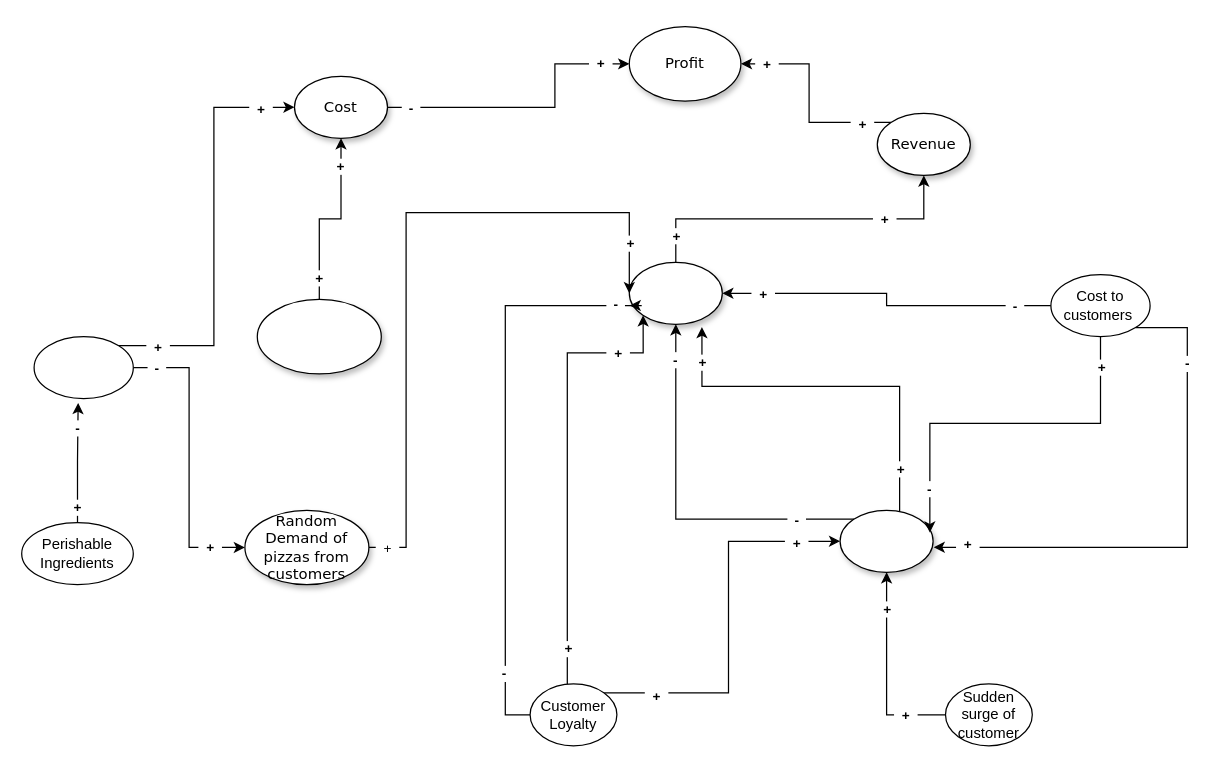
Some shapes in this 1219 by 768 pixel diagram are drawn without their labels. Each missing label, with the centre of its shape:
"Price per unit of ingredients" goes at (x=320, y=338).
"Size of Customer base" goes at (x=887, y=542).
"Store Inventory Capacity" goes at (x=83, y=367).
"Unit Sales of pizza" goes at (x=676, y=294).
